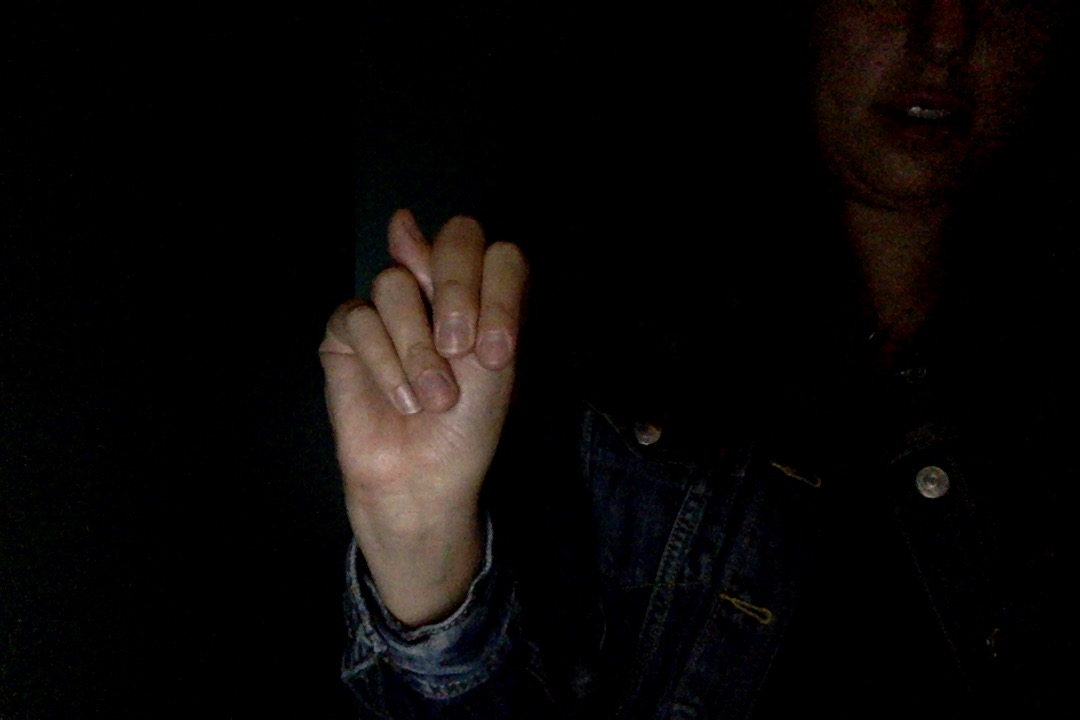n: (286, 188, 548, 636)
